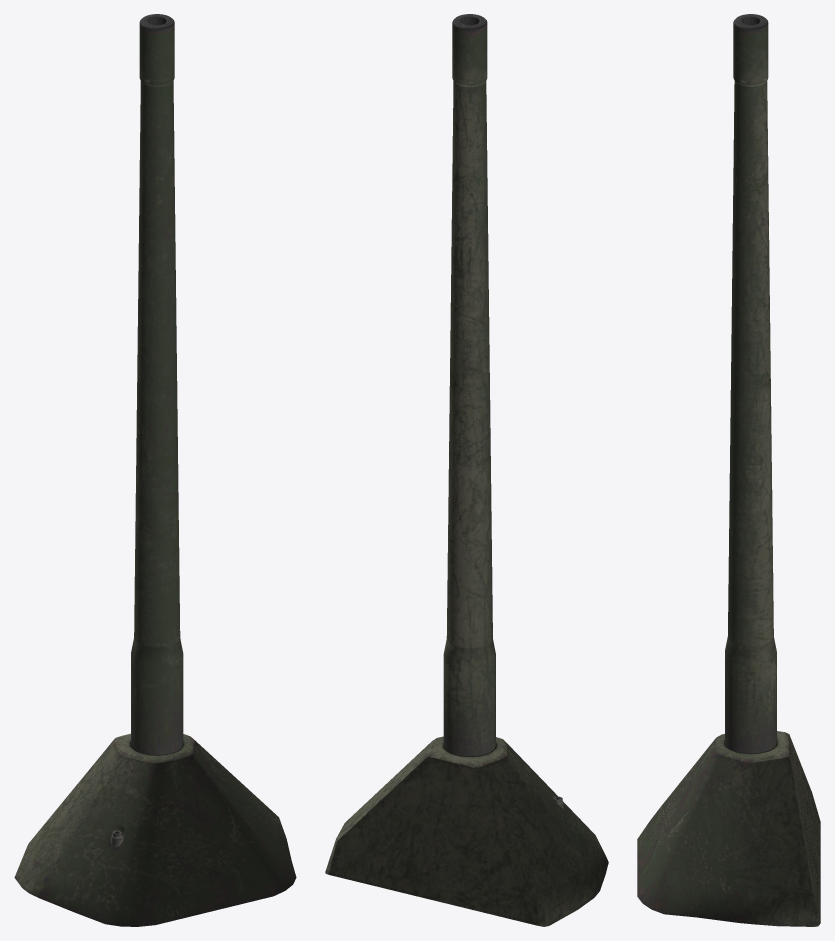
The model's file is Gun_02.glb.
3 views of the same model, side by side, from view 1: azimuth 30°, elevation 25°; view 2: azimuth 150°, elevation 25°; view 3: azimuth 270°, elevation 25° (orthographic).
Visible parts, largest first — view 1: set_0_group_0; view 2: set_0_group_0; view 3: set_0_group_0.
Boxes of the visible parts, box(x1,y1,x2,y2) form: set_0_group_0: box(14, 14, 296, 926); set_0_group_0: box(325, 14, 608, 926); set_0_group_0: box(637, 14, 820, 926).
Bounding box in the file's own units: 1.11 × 3.59 × 0.7005.
Materials: 1 (1 with a texture image).
